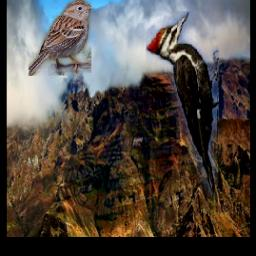Sparrow: (29, 0, 91, 76)
Woodpecker: (147, 12, 220, 206)
